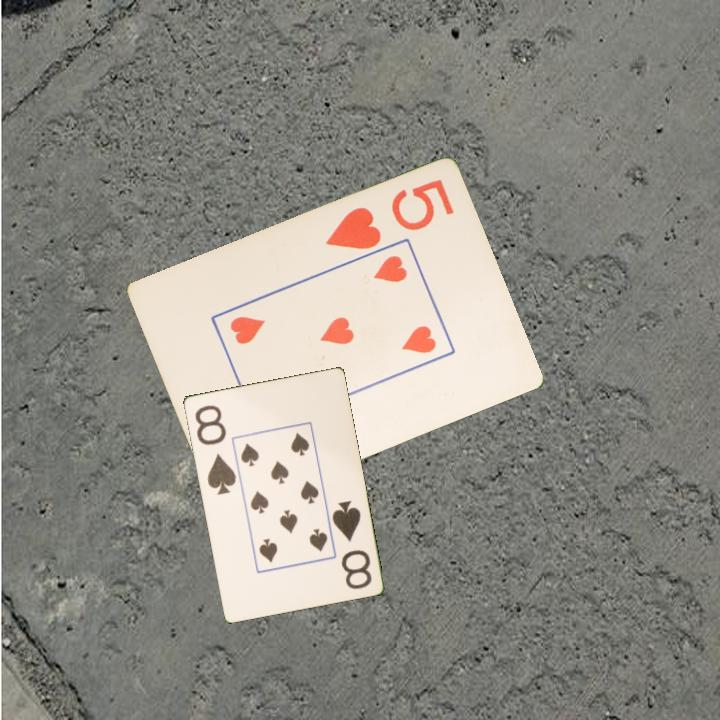5h: (321, 176, 457, 253)
8s: (191, 401, 239, 497), (328, 497, 374, 592)
